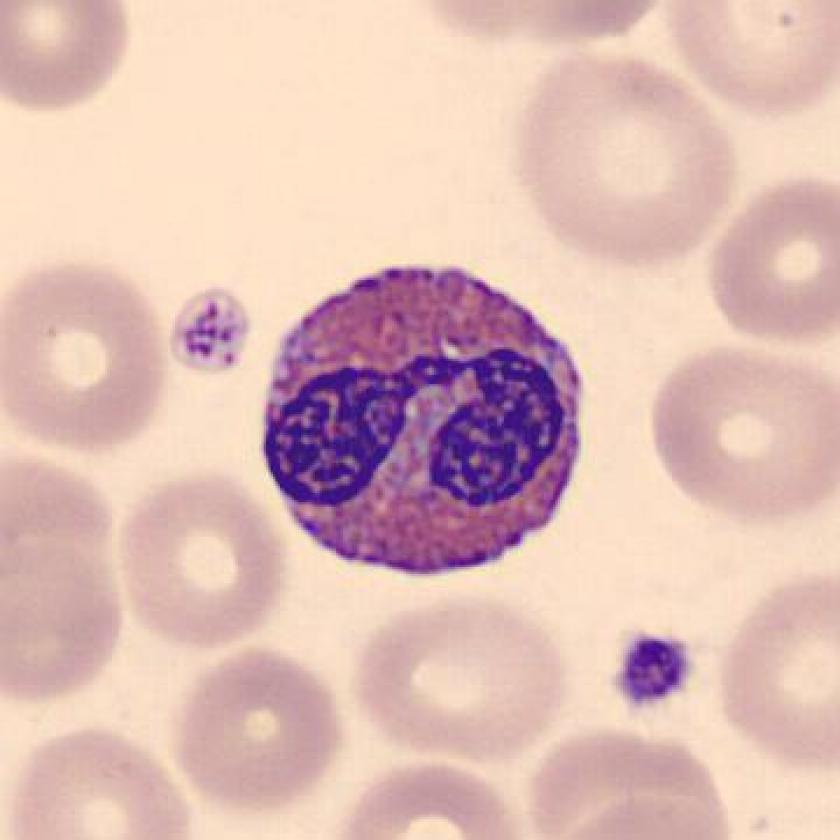eosinophil: (244, 256, 596, 584)
